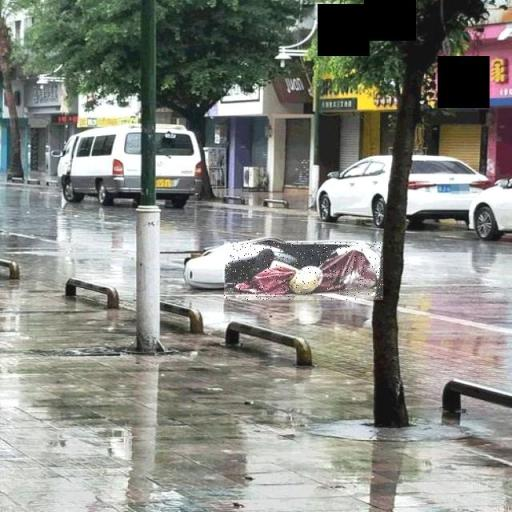Fall: (224, 242, 383, 300)
